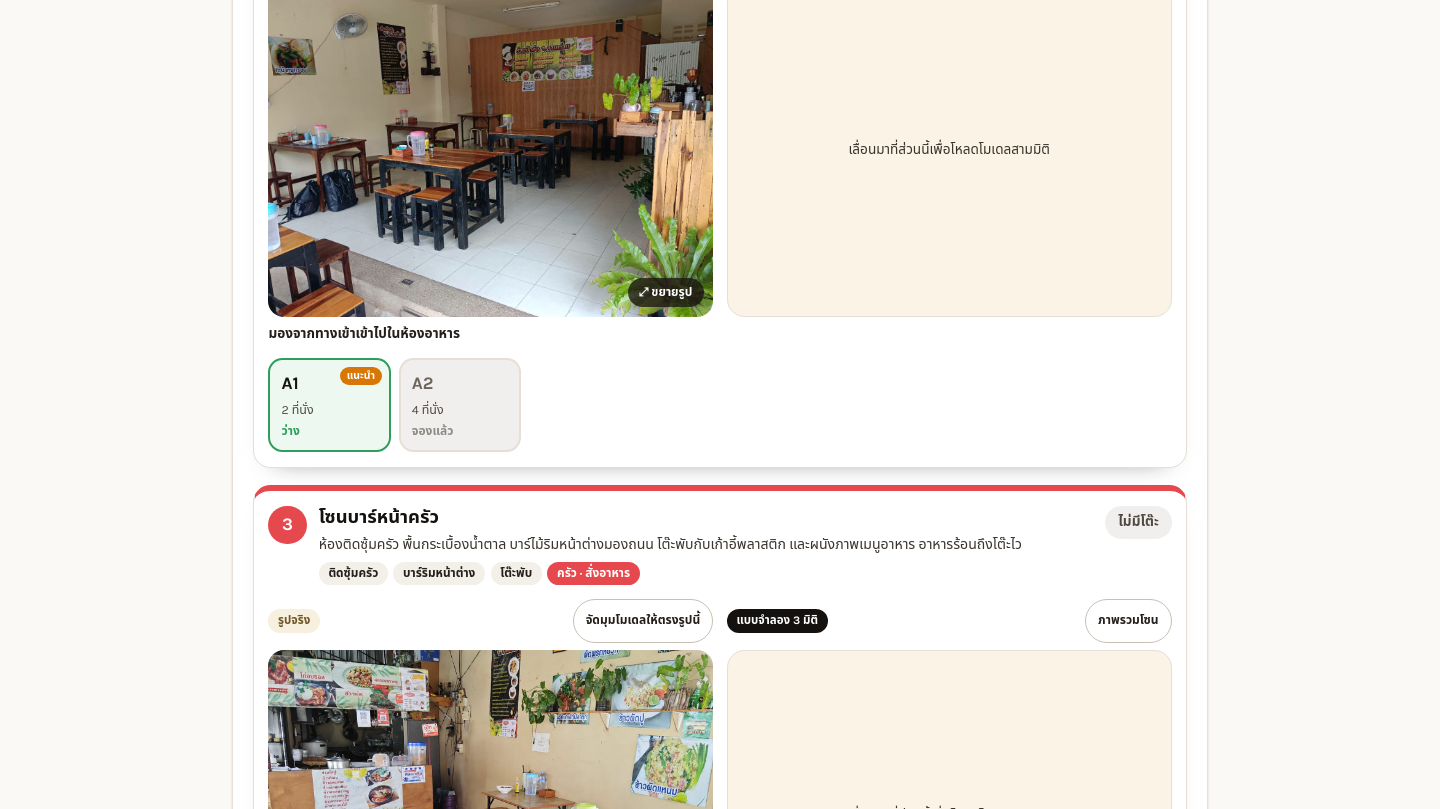
it: หน้าจองโต๊ะของลูกค้า (3 ขั้นตอน) › จองไม่สำเร็จ (โต๊ะถูกจองตัดหน้า) แสดง error และดึงผังล่าสุด
(page scrolled)
Click the button with aria-label "โต๊ะ A1 ": point(330, 405) [268,358,391,452]
(page scrolled)
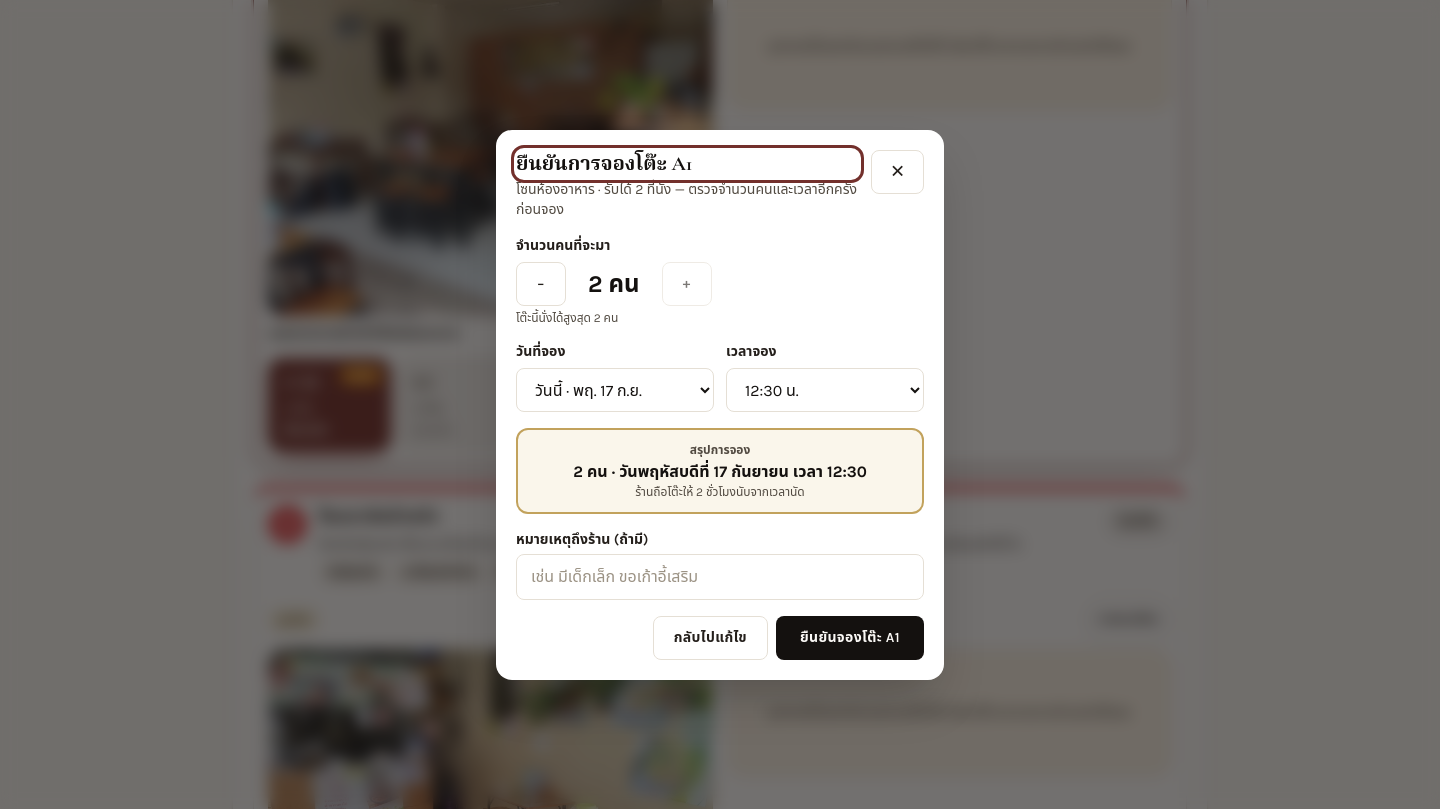
Click the button "ยืนยันจองโต๊ะ A1": point(850, 638) [776,616,924,660]
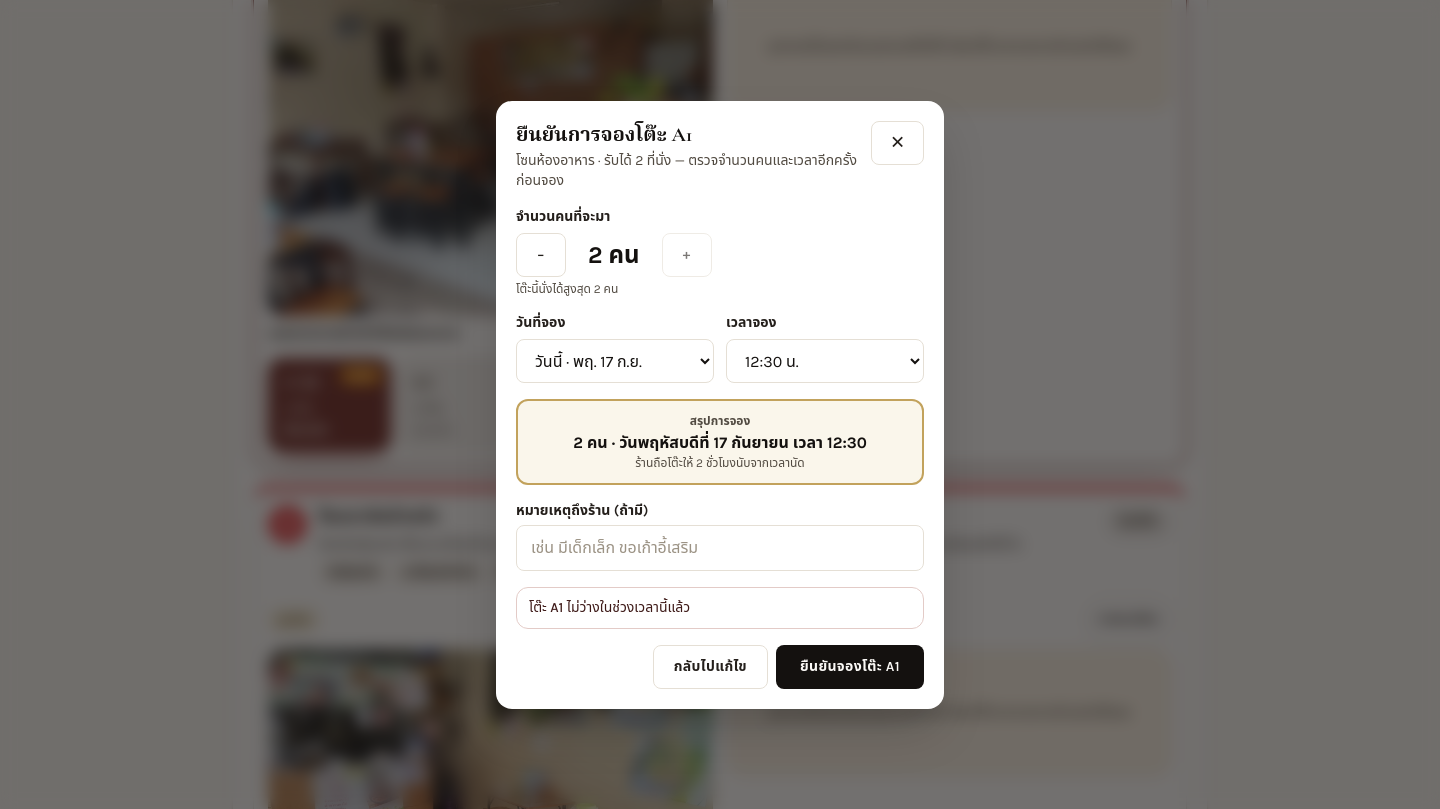
Expected: the text "โต๊ะ A1 ไม่ว่างในช่วงเวลานี้แล้ว" is shown, [516,587,924,629]
